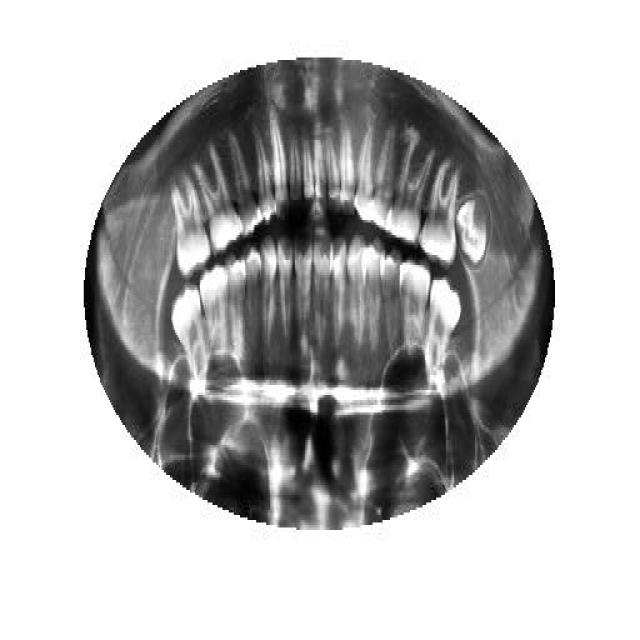Impacted Tooth: (454, 190, 491, 272)
